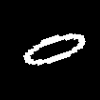chain: (23, 34, 85, 64)
